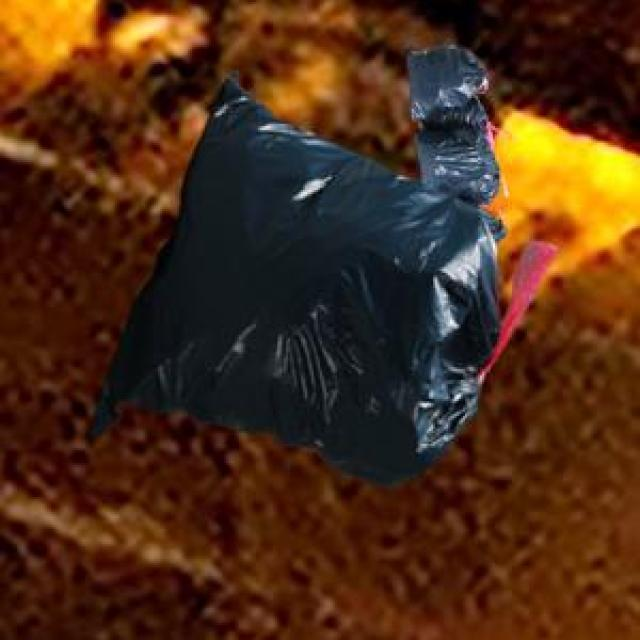waste: (92, 45, 501, 482)
